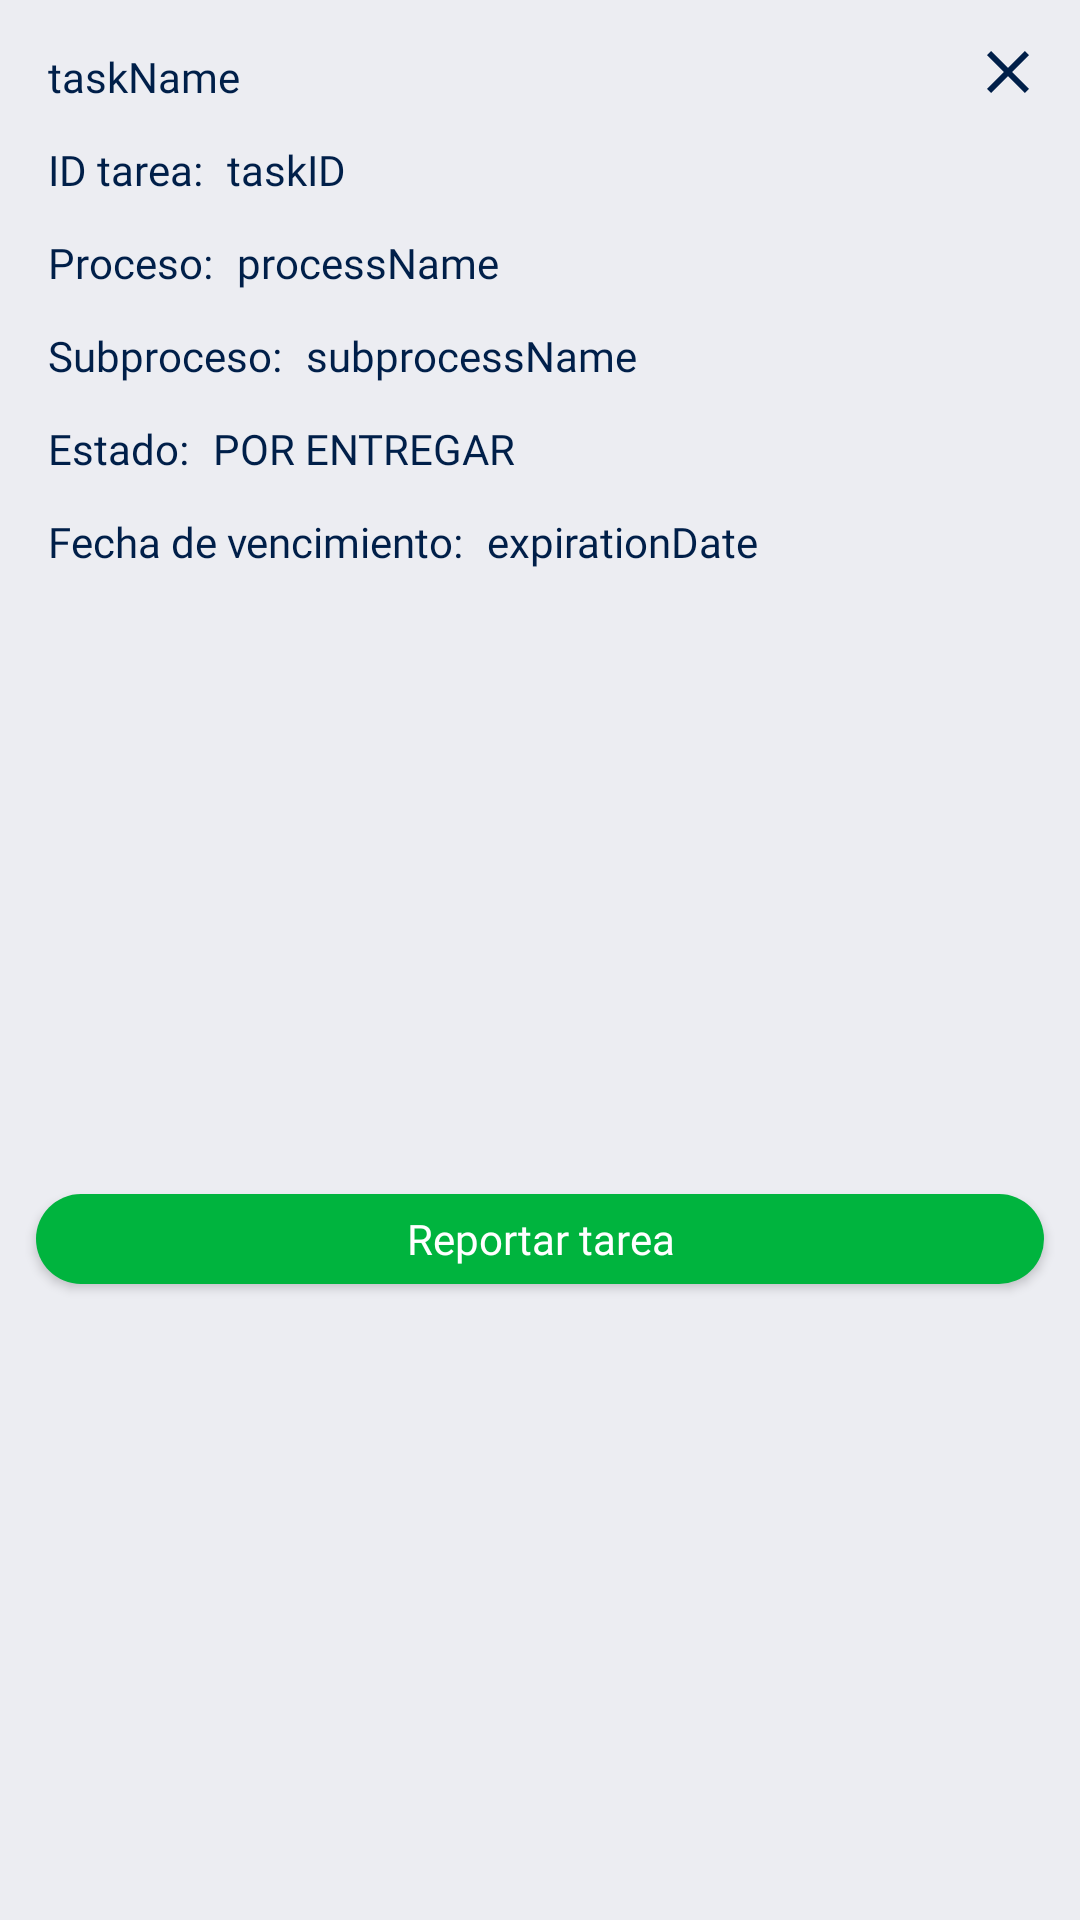

Where icons sit on this 1080*1920 app screen, as rect(x1, y1, x2, y2):
close: rect(987, 51, 1029, 93)
